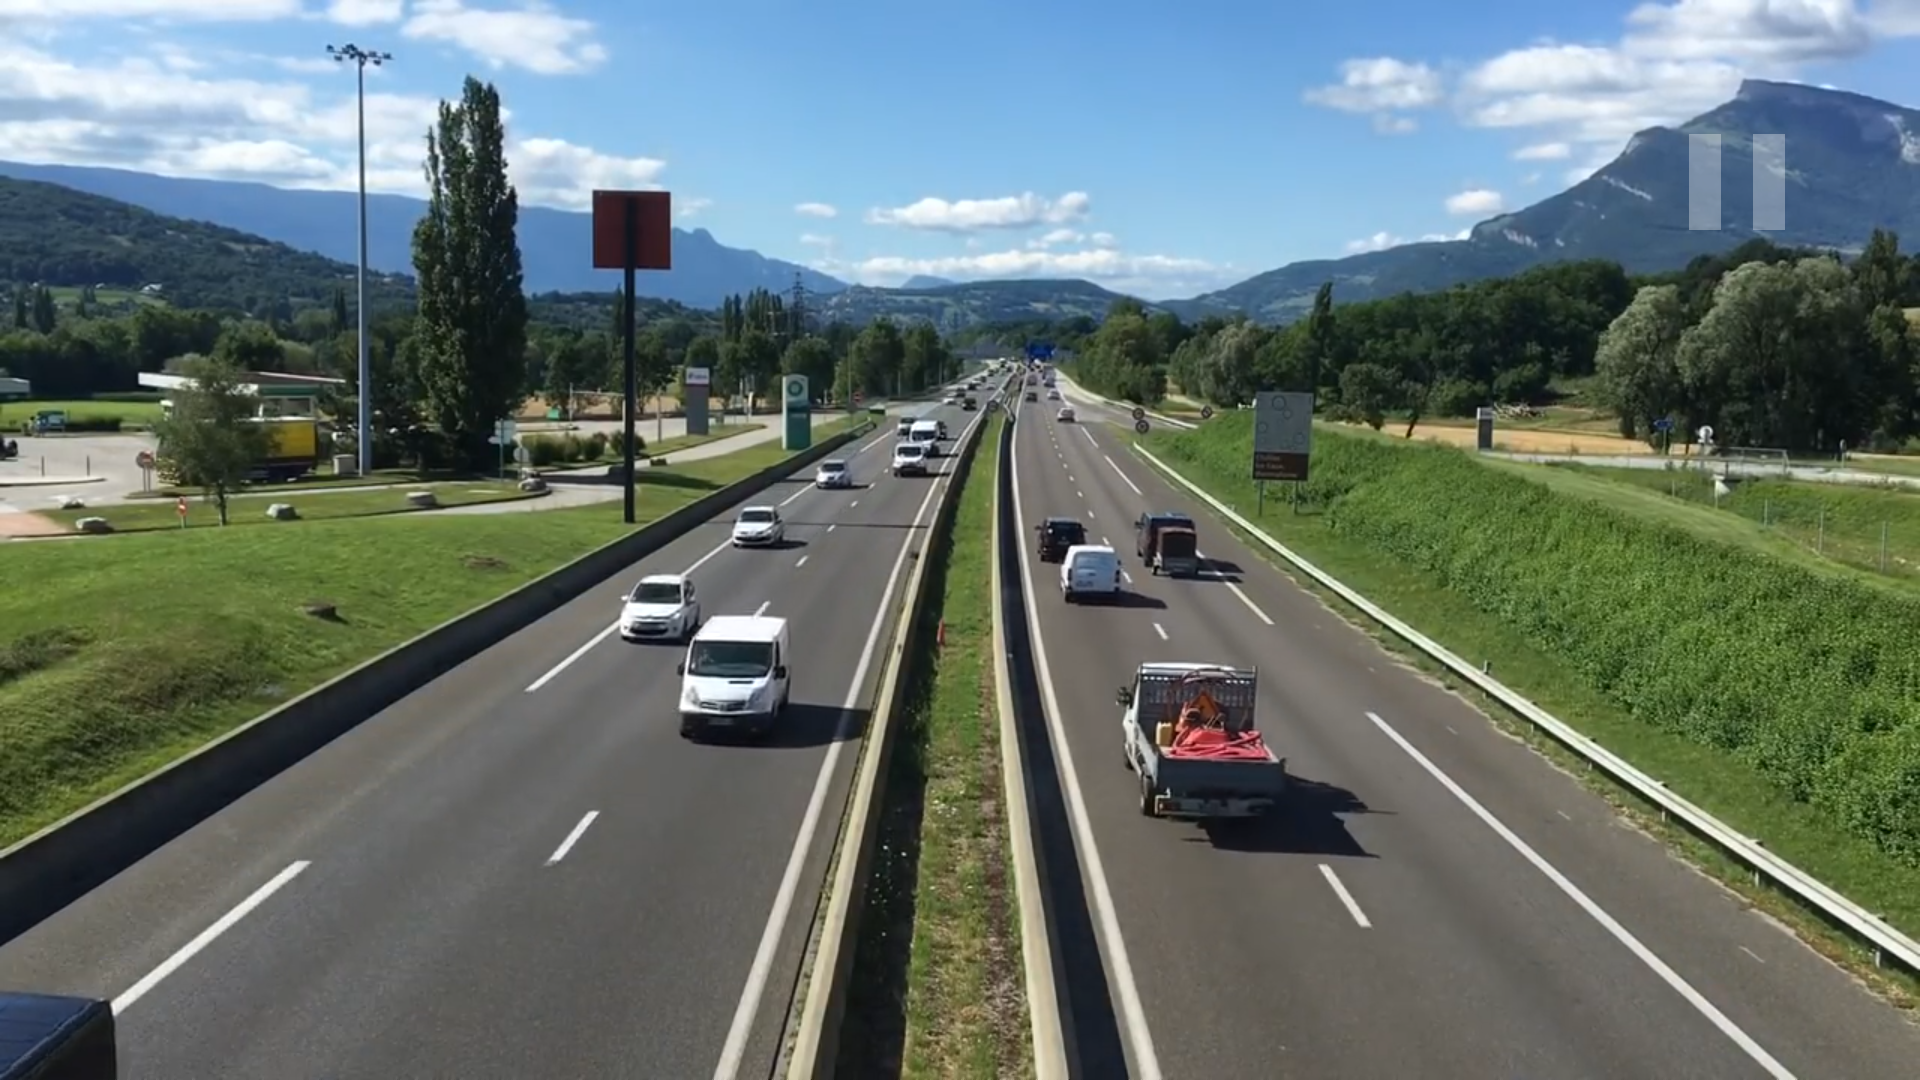LightVehicle: (1114, 657, 1294, 837)
